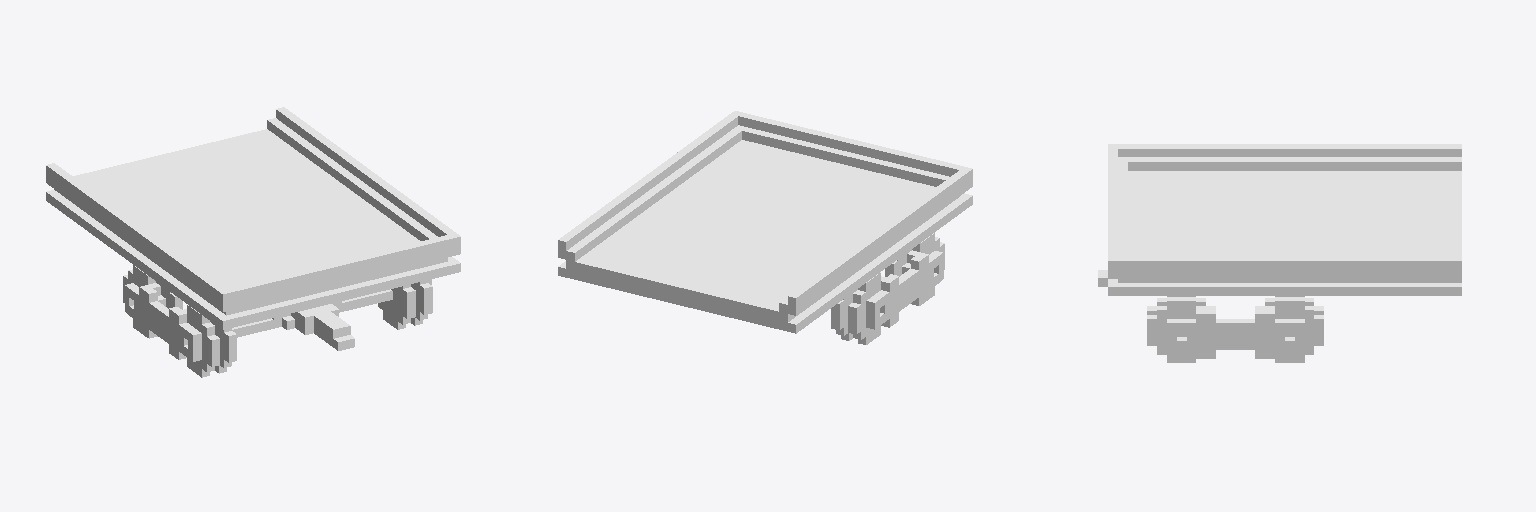
The model's file is SC_Cart.obj.
3 views of the same model, side by side, from view 1: azimuth 30°, elevation 25°; view 2: azimuth 150°, elevation 25°; view 3: azimuth 270°, elevation 25° (orthographic).
Size of the model in its own units: 28 by 12 by 37.